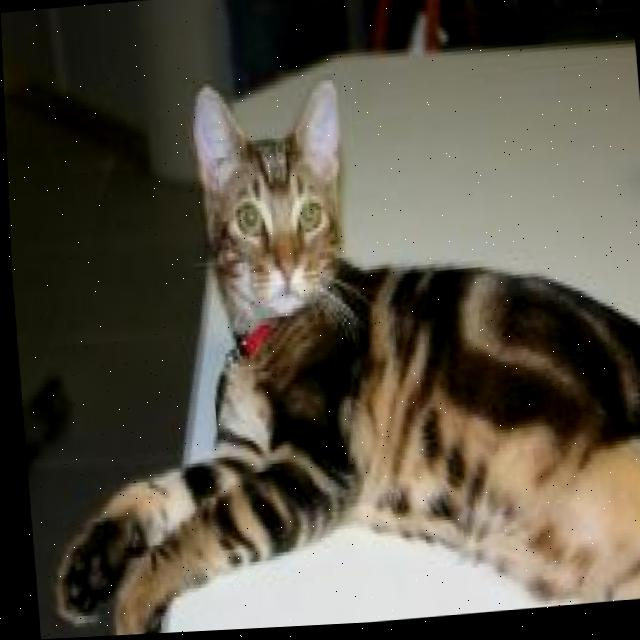Bengal: (3, 45, 640, 640)
